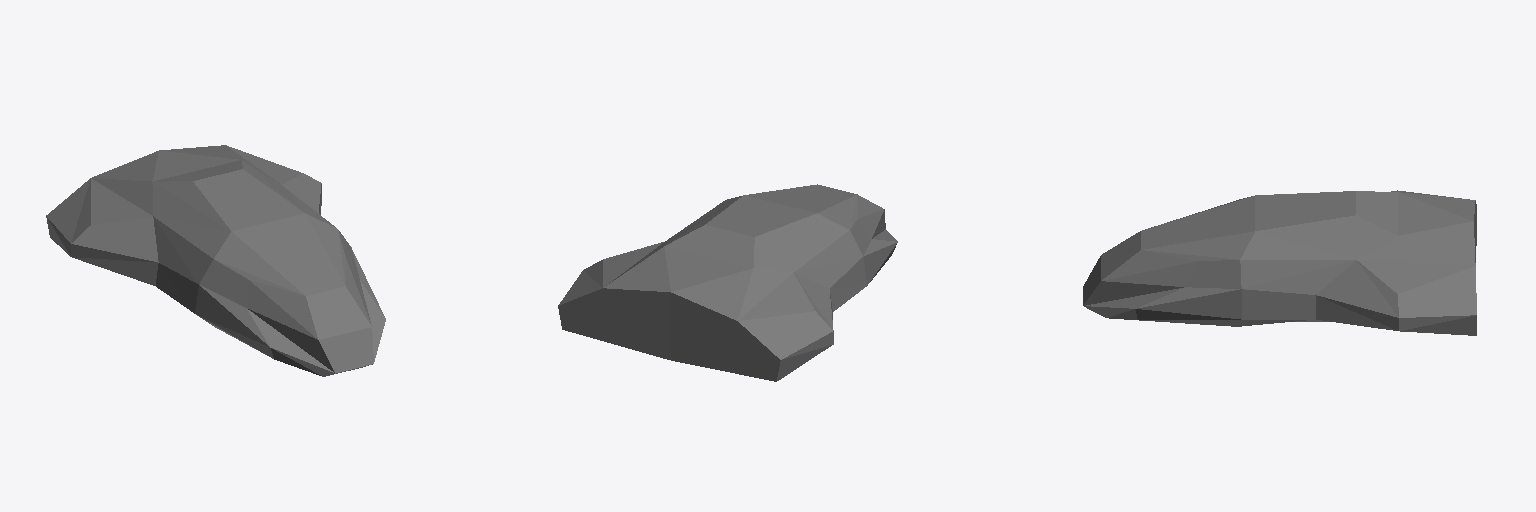
The picture shows the model from 3 angles: view 1: azimuth 30°, elevation 25°; view 2: azimuth 150°, elevation 25°; view 3: azimuth 270°, elevation 25°; orthographic projection.
Visible parts, largest first — view 1: Shuttle02; view 2: Shuttle02; view 3: Shuttle02.
Boxes of the visible parts, box(x1,y1,x2,y2) form: Shuttle02: box(46, 145, 385, 376); Shuttle02: box(558, 184, 897, 381); Shuttle02: box(1083, 190, 1476, 335).
Bounding box in the file's own units: 383 × 155 × 523.